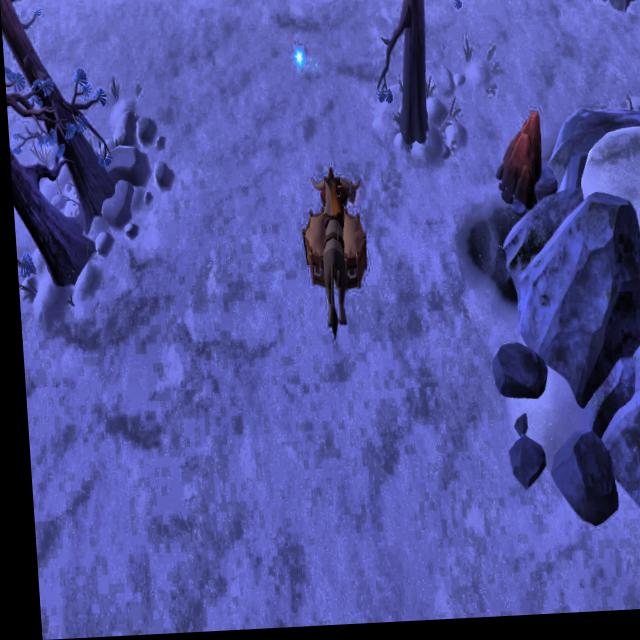rock_t5: (489, 116, 545, 216)
